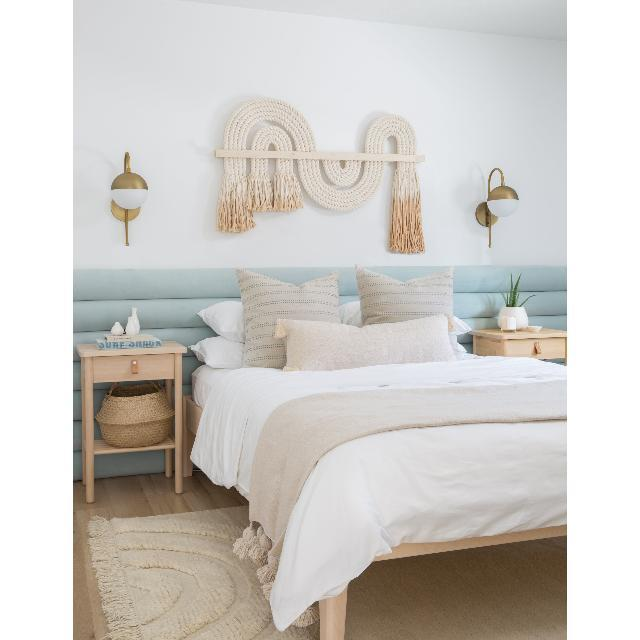pillow: (285, 311, 463, 374), (235, 267, 344, 367), (355, 258, 457, 350)
